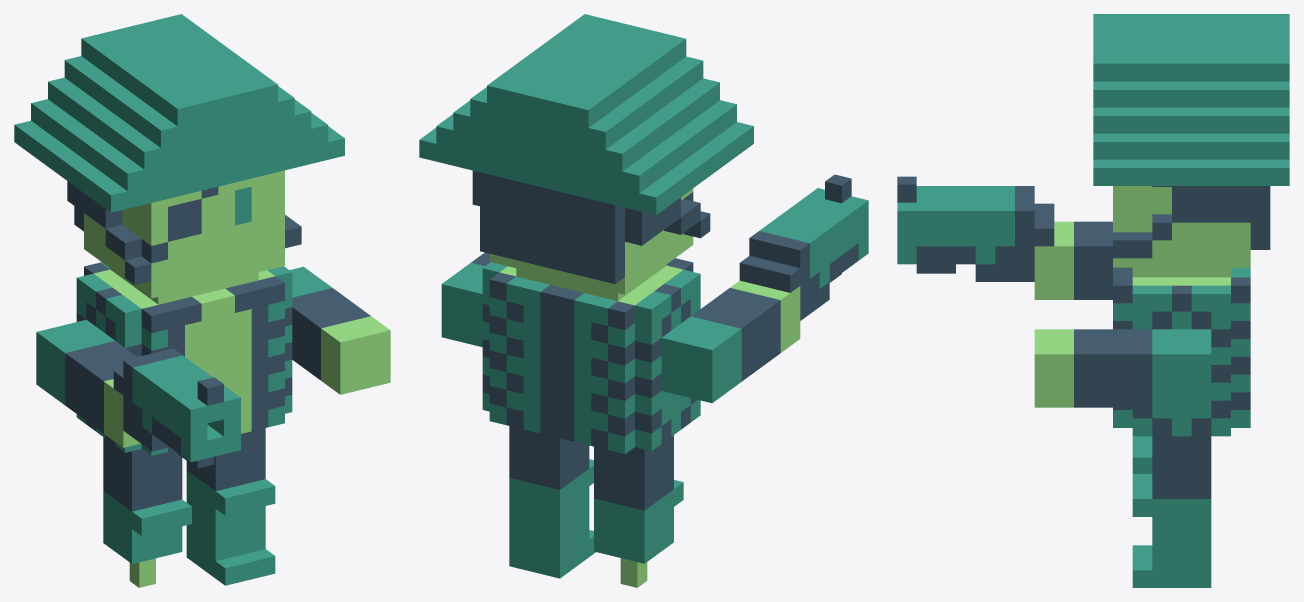
File: Pirata.obj
The picture shows the model from 3 angles, left to right: view 1: azimuth 30°, elevation 25°; view 2: azimuth 150°, elevation 25°; view 3: azimuth 270°, elevation 25°; orthographic projection.
Bounding box in the file's own units: 1.6 × 2.9 × 2.
1 material, 1 textured.
